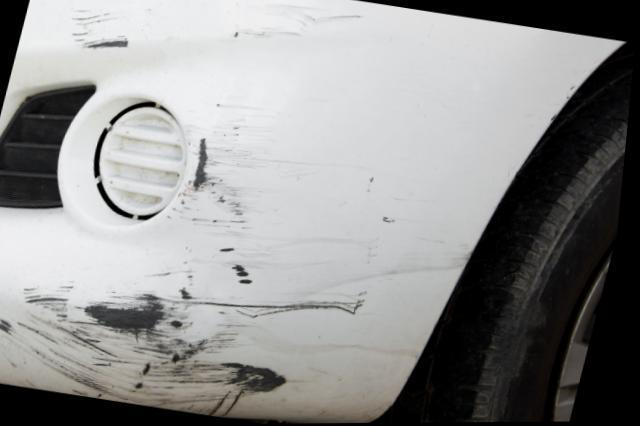rub: (0, 99, 479, 419), (60, 0, 377, 57)
